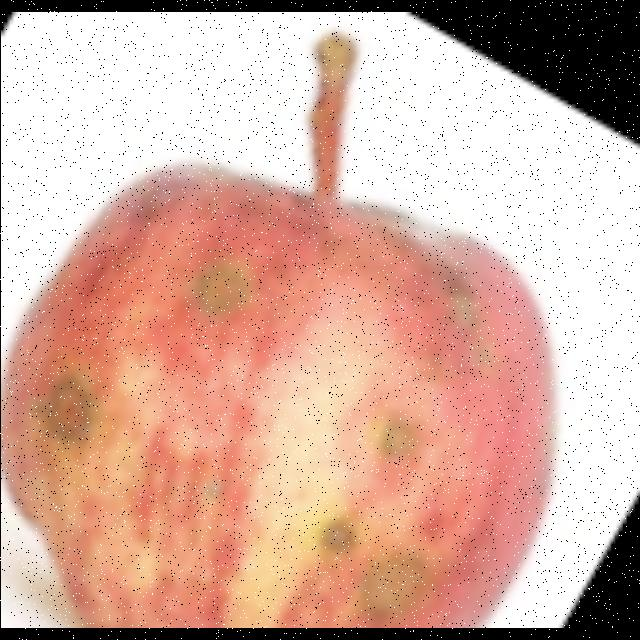Apel Tidak Segar: (1, 78, 590, 628)
